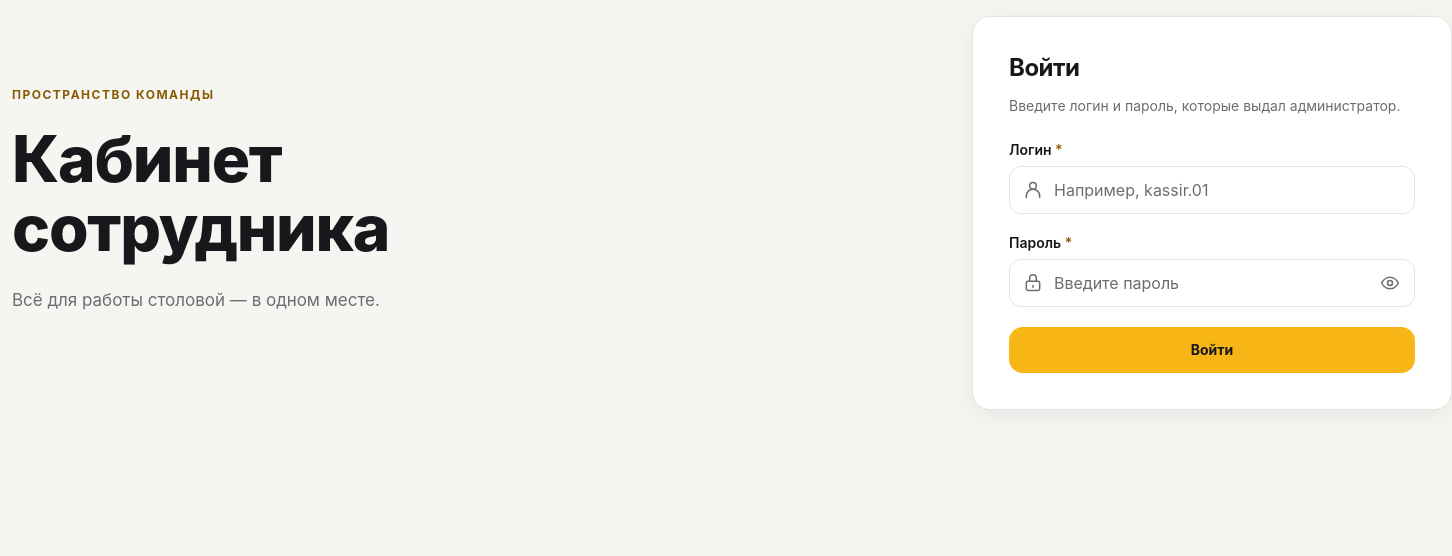
Test case: вход отправляет логин и сохраняет серверные ошибки поля
Type "kassir.01" into the field labelled "Логин" at (1212,190), box [1009,166,1415,214]
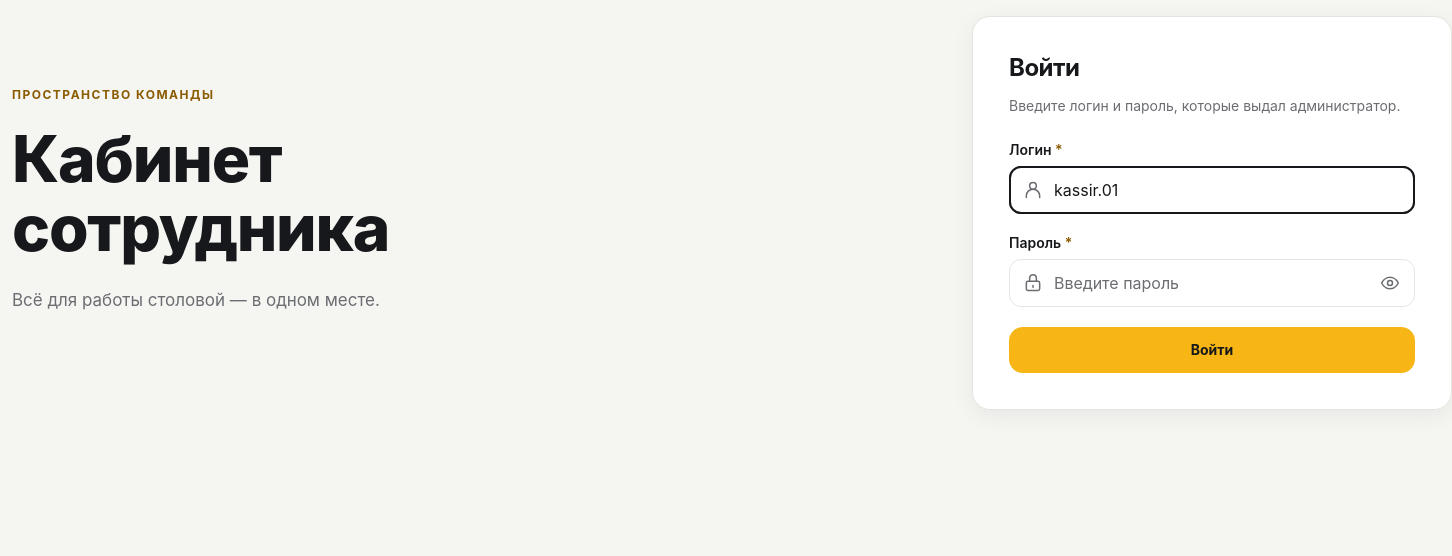
Type "synthetic-password" into the password field labelled "Пароль" at (1212,283), box [1009,259,1415,307]
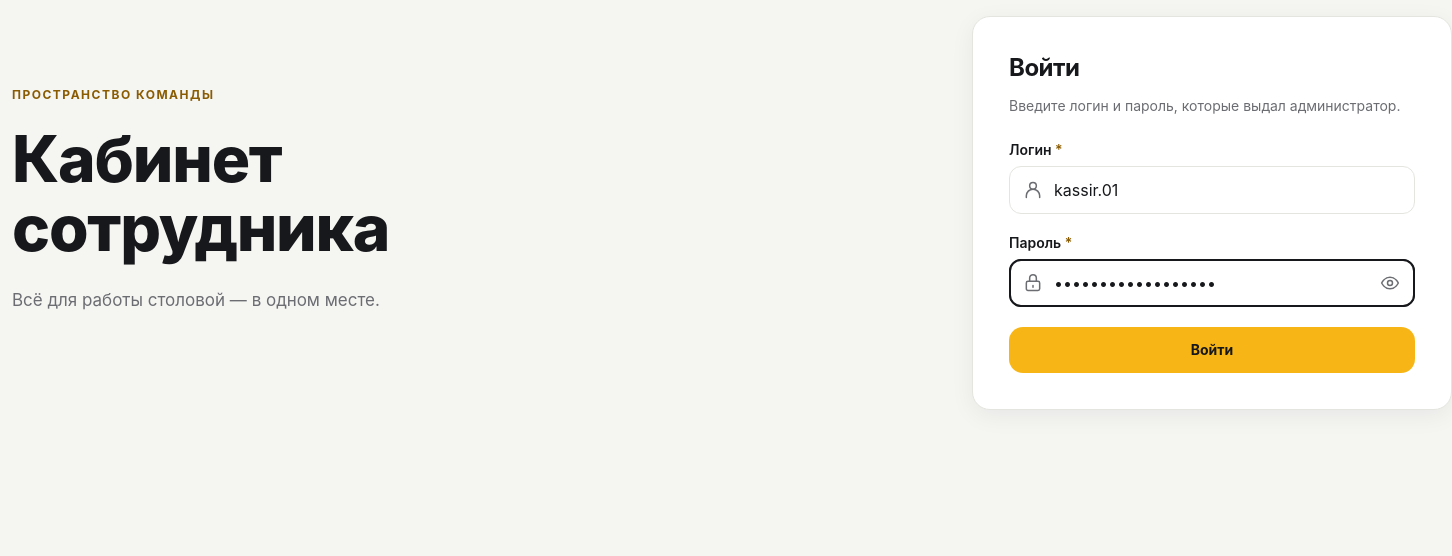
Click the button "Войти" at (1212,350), box [1009,327,1415,373]
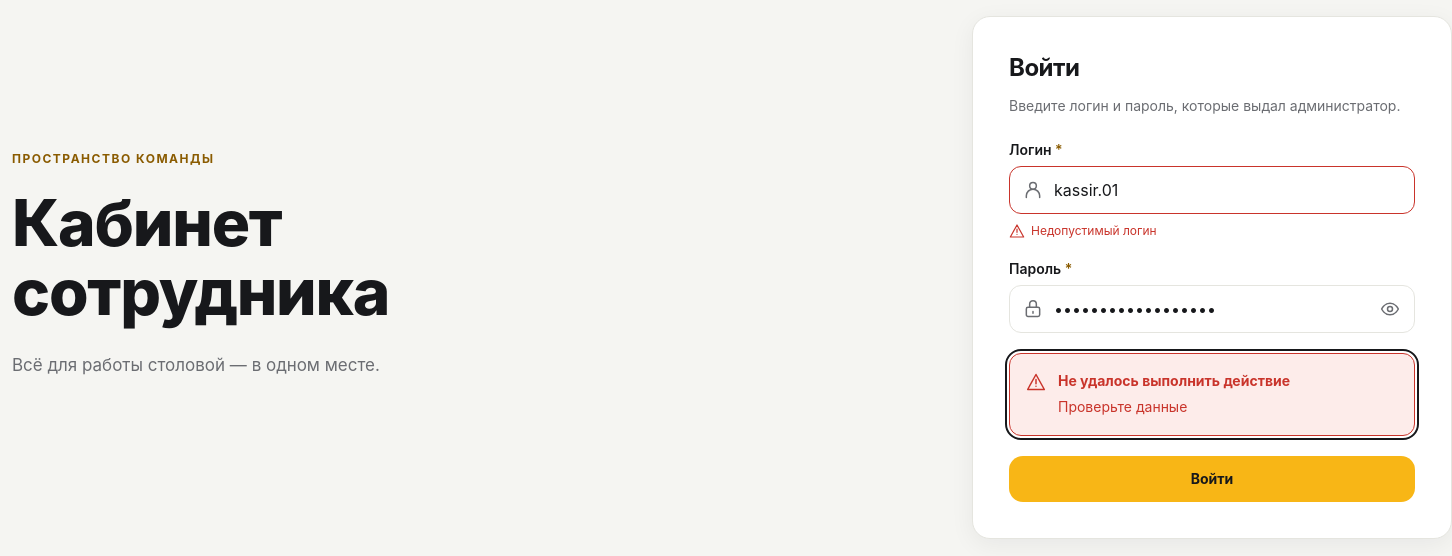
Now the text "Недопустимый логин" is shown, box [1009,223,1157,239]
